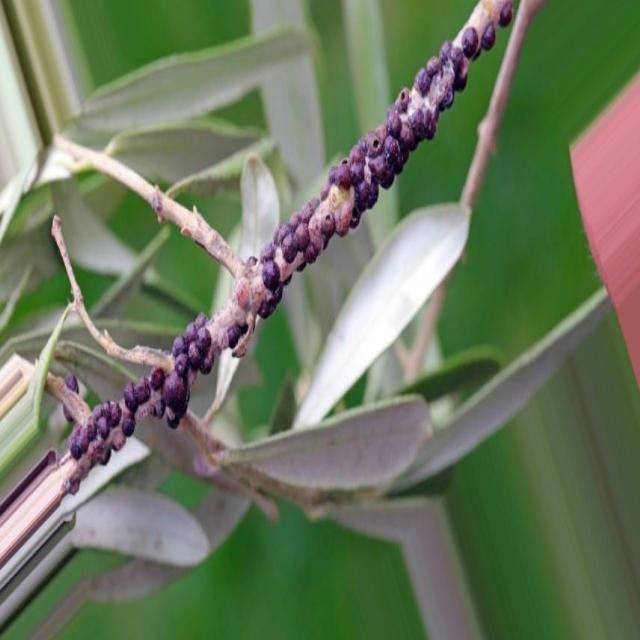Black Scale: (221, 0, 512, 357), (66, 313, 217, 491)
